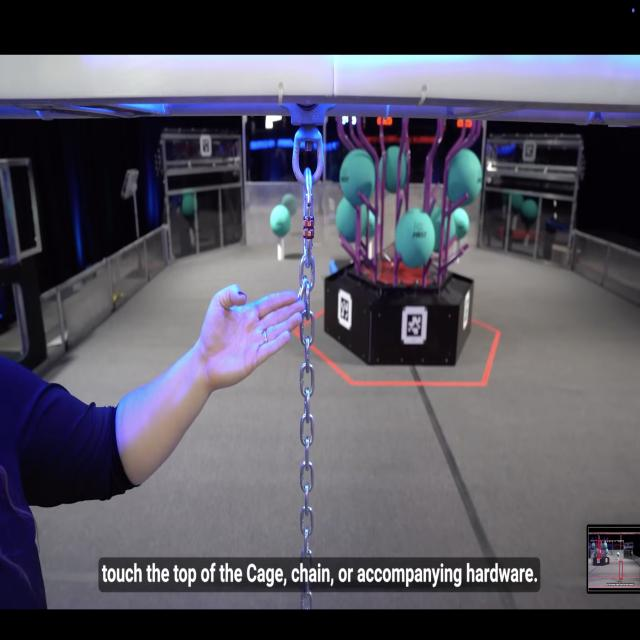algae: (443, 143, 484, 210), (394, 205, 436, 265), (338, 147, 378, 207), (378, 143, 410, 195), (335, 192, 367, 240), (428, 199, 454, 250), (268, 201, 296, 240), (449, 209, 474, 244)
coral: (276, 234, 288, 264)
